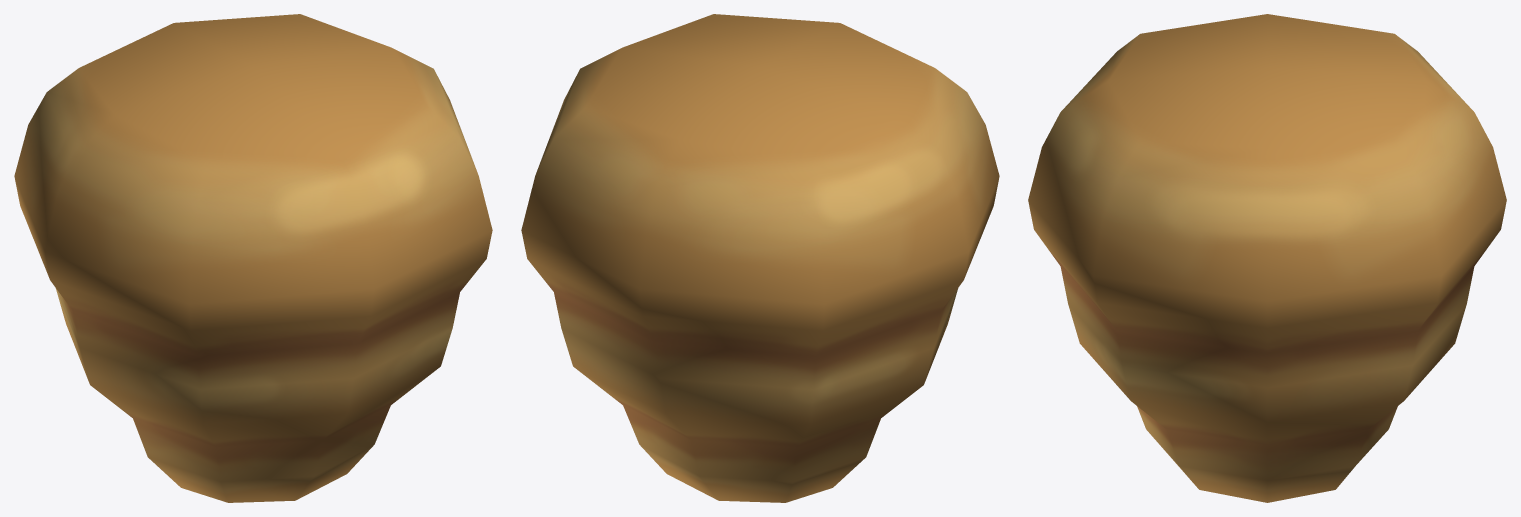
File: Beehive.fbx
3 views of the same model, side by side, from view 1: azimuth 30°, elevation 25°; view 2: azimuth 150°, elevation 25°; view 3: azimuth 270°, elevation 25° (orthographic).
Visible parts, largest first — view 1: Beehive; view 2: Beehive; view 3: Beehive.
Part boxes in pixels (left/top/right/bottom): Beehive: left=14, top=14, right=492, bottom=502; Beehive: left=521, top=14, right=999, bottom=502; Beehive: left=1028, top=14, right=1506, bottom=502.
Size of the model in its own units: 351 by 351 by 335.
